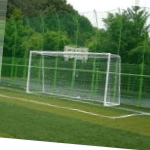goals: (25, 48, 124, 109)
